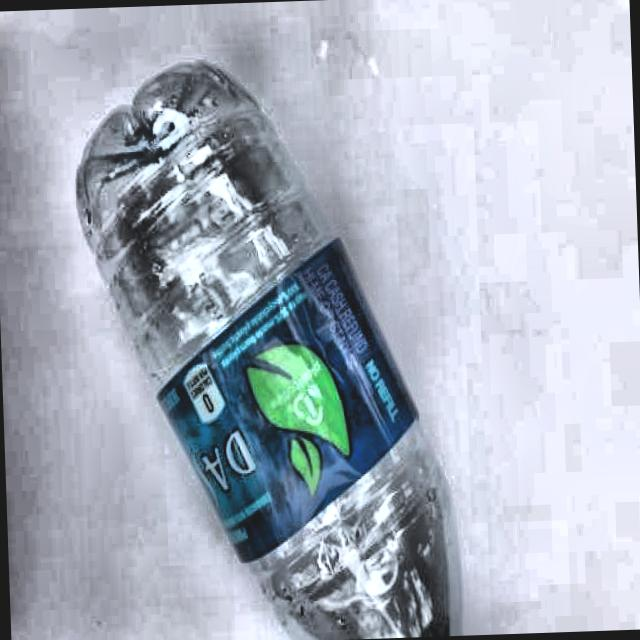plastic bottle: (77, 62, 455, 640)
